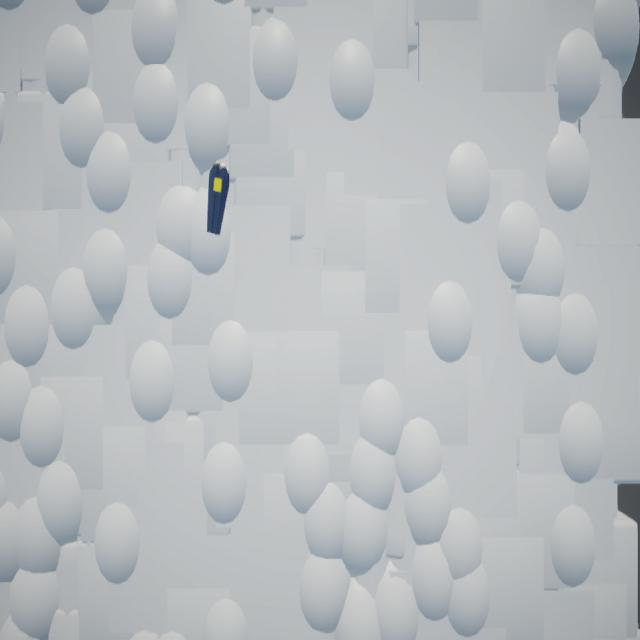handle_folk: (208, 163, 230, 236)
